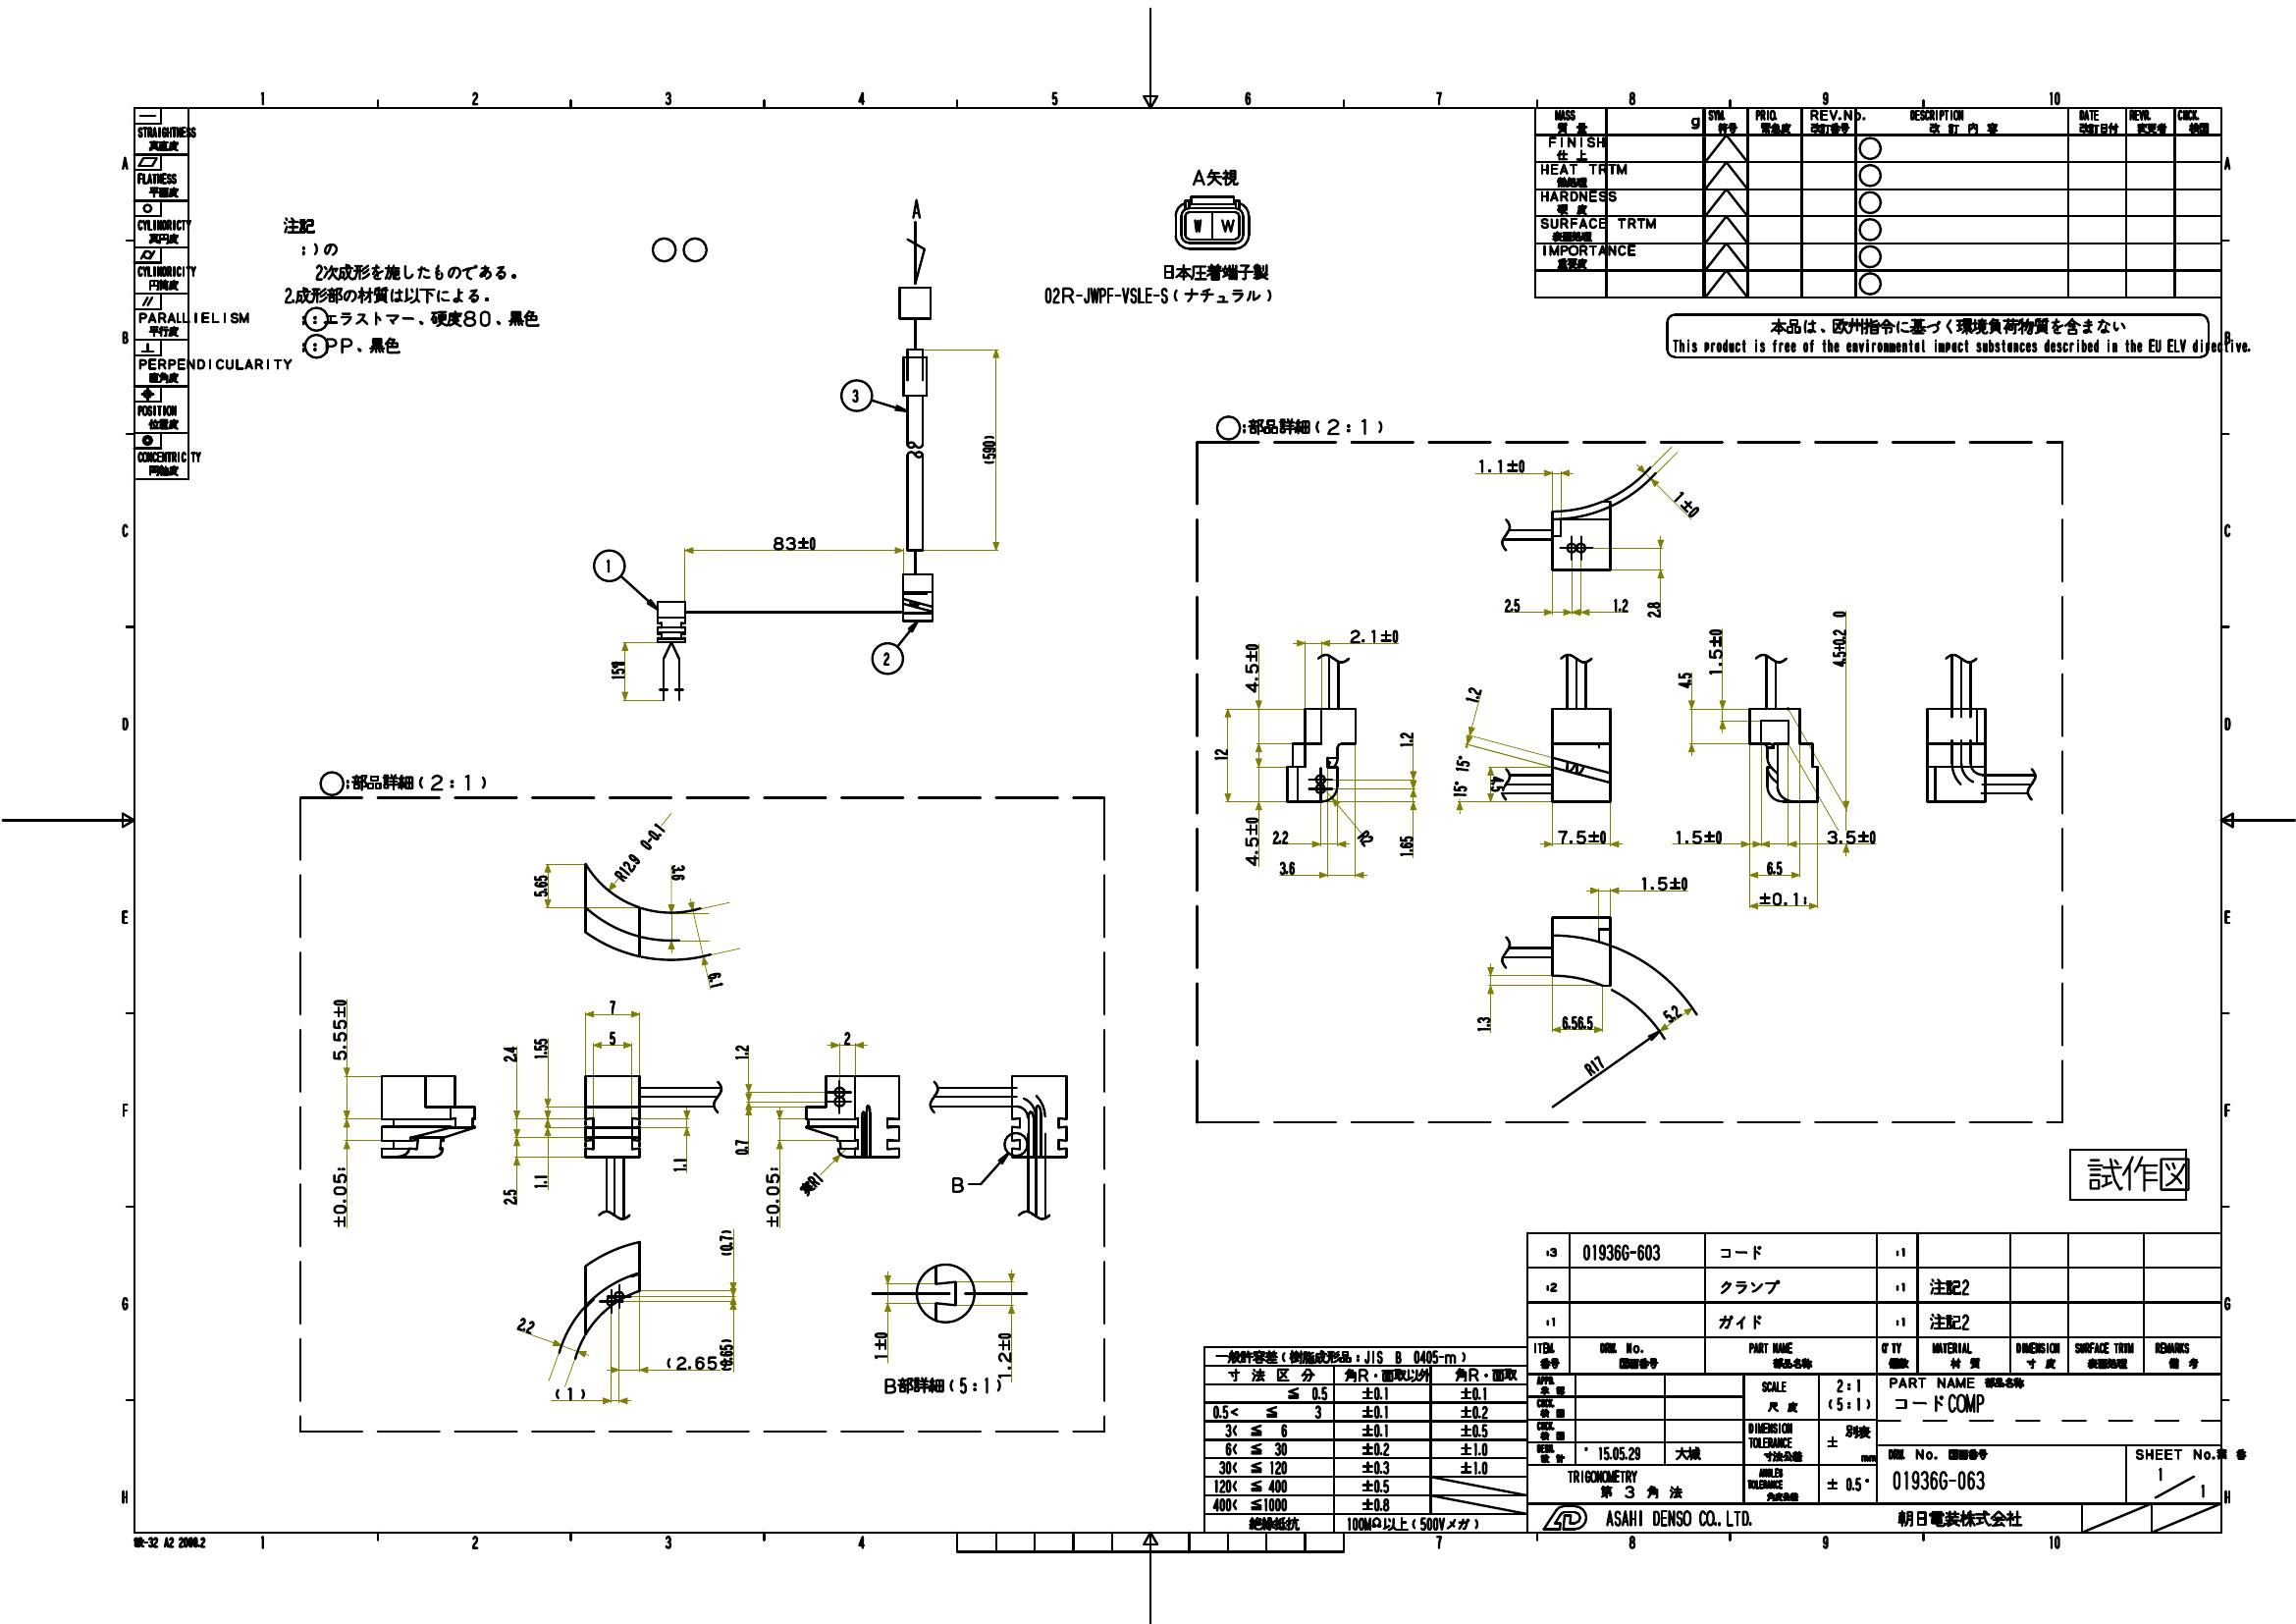anntotation_text: (279, 214, 543, 359), (1665, 313, 2208, 357), (1040, 262, 1279, 308), (2071, 1148, 2187, 1200), (314, 768, 490, 796), (1214, 413, 1386, 439), (882, 1374, 1001, 1394), (646, 237, 711, 264), (1188, 165, 1245, 186), (132, 1534, 207, 1550), (840, 378, 873, 413), (871, 642, 903, 675), (594, 548, 624, 584), (906, 199, 926, 221), (1217, 216, 1235, 236), (949, 1174, 966, 1193), (1191, 214, 1205, 234)
dimension_text: (329, 995, 348, 1063), (631, 816, 646, 889), (764, 1165, 780, 1232), (664, 1355, 729, 1371), (330, 1165, 346, 1229), (1346, 626, 1398, 643), (1637, 874, 1688, 891), (1242, 640, 1258, 696), (1451, 752, 1470, 798), (1242, 814, 1258, 866), (1757, 889, 1808, 905), (1825, 828, 1876, 844), (1556, 828, 1607, 844), (1476, 457, 1527, 473), (1832, 610, 1846, 666), (996, 1332, 1012, 1380), (771, 534, 817, 550), (1708, 626, 1722, 675), (1674, 830, 1723, 844), (717, 1227, 734, 1260), (717, 1336, 733, 1371), (553, 1385, 588, 1401), (980, 432, 996, 464), (803, 1171, 820, 1199), (531, 872, 548, 900), (871, 1330, 887, 1360), (1560, 1014, 1593, 1028), (1671, 497, 1702, 511), (1397, 835, 1414, 858), (531, 1035, 546, 1060), (731, 1040, 748, 1062), (669, 1153, 687, 1174), (1583, 1058, 1606, 1074), (1660, 1005, 1683, 1021), (1397, 729, 1414, 749), (731, 1137, 748, 1156), (1644, 599, 1660, 620), (708, 968, 724, 990), (671, 861, 687, 882), (532, 1169, 548, 1190), (501, 1042, 516, 1063), (608, 659, 624, 680), (1764, 859, 1783, 875), (1674, 670, 1690, 689), (1465, 684, 1481, 703), (502, 1185, 515, 1207), (1356, 830, 1374, 845), (1279, 858, 1295, 875), (1609, 596, 1627, 612), (516, 1316, 534, 1332), (1476, 1014, 1490, 1033), (1490, 775, 1504, 794), (1272, 830, 1288, 845), (1504, 598, 1521, 612), (604, 998, 618, 1016), (1212, 747, 1228, 761), (840, 1028, 850, 1044), (606, 1028, 617, 1044)
object: (655, 288, 931, 642), (1500, 916, 1697, 1040), (929, 1074, 1068, 1220), (583, 1076, 722, 1220), (1500, 652, 1613, 803), (1925, 654, 2036, 803), (1500, 466, 1655, 571), (585, 865, 711, 960), (1284, 652, 1356, 801), (1748, 654, 1818, 803), (557, 1241, 639, 1359), (806, 1076, 901, 1158), (381, 1076, 474, 1158), (1175, 195, 1249, 250), (915, 1264, 975, 1322)
title_block: (1202, 1234, 2222, 1533), (1535, 107, 2220, 295), (132, 107, 190, 480)
